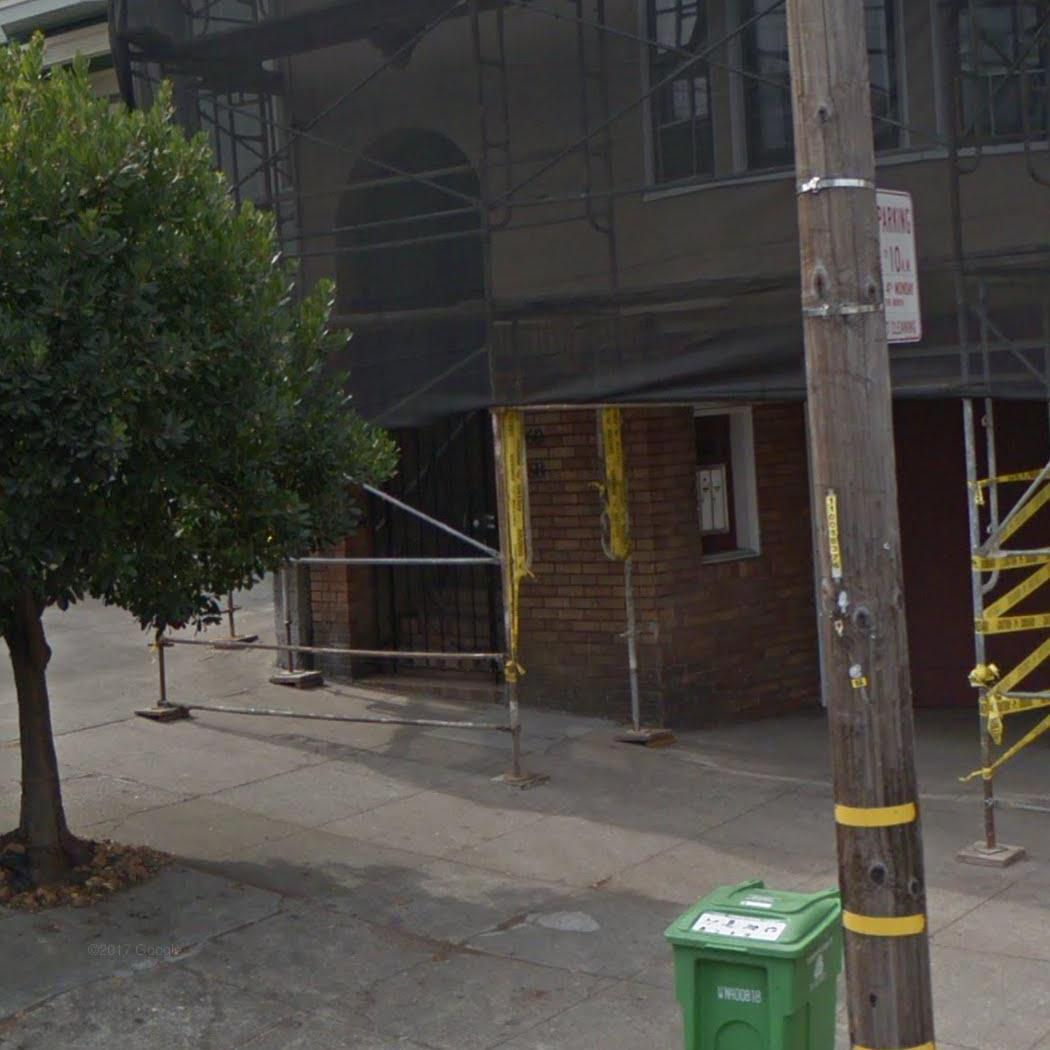No Parking: (870, 184, 926, 347)
